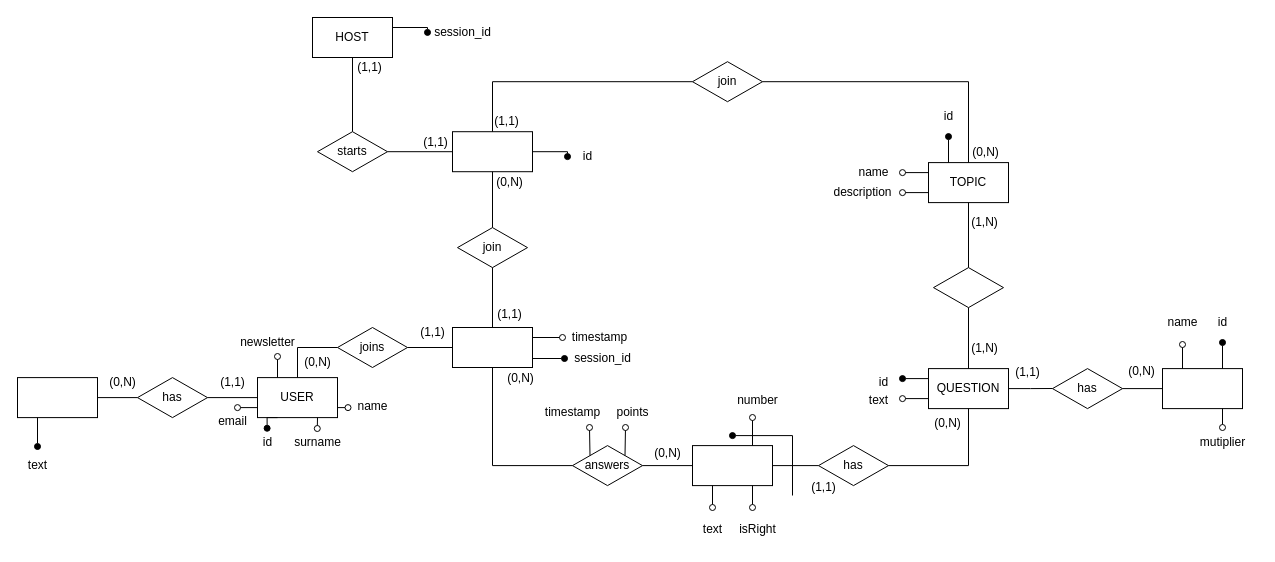
This 1275x562 diagram has some shape labels left out. The centre of each missing label's shape, as x and y in pixels:
"ANSWER" goes at point 732,465.
"belongs" goes at point 968,287.
"DIFFICULTY" goes at point 1202,388.
"PLAYER" goes at point 492,347.
"ROOM" goes at point 492,151.
"TYPE" goes at point 57,397.
